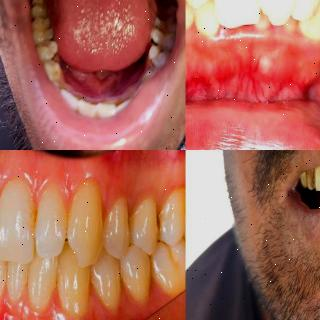Gum Swelling: (186, 22, 320, 57), (4, 285, 94, 320), (18, 166, 59, 205), (58, 173, 93, 213), (0, 164, 21, 197)
calculus: (98, 92, 118, 110), (56, 80, 70, 96), (114, 93, 124, 114), (69, 91, 86, 103), (128, 84, 138, 100)
maligned: (254, 0, 302, 30), (303, 0, 320, 54), (291, 0, 320, 14)
stains: (300, 158, 317, 196), (47, 47, 63, 65), (149, 31, 164, 50), (145, 52, 161, 69), (31, 14, 38, 30), (30, 0, 38, 12)
